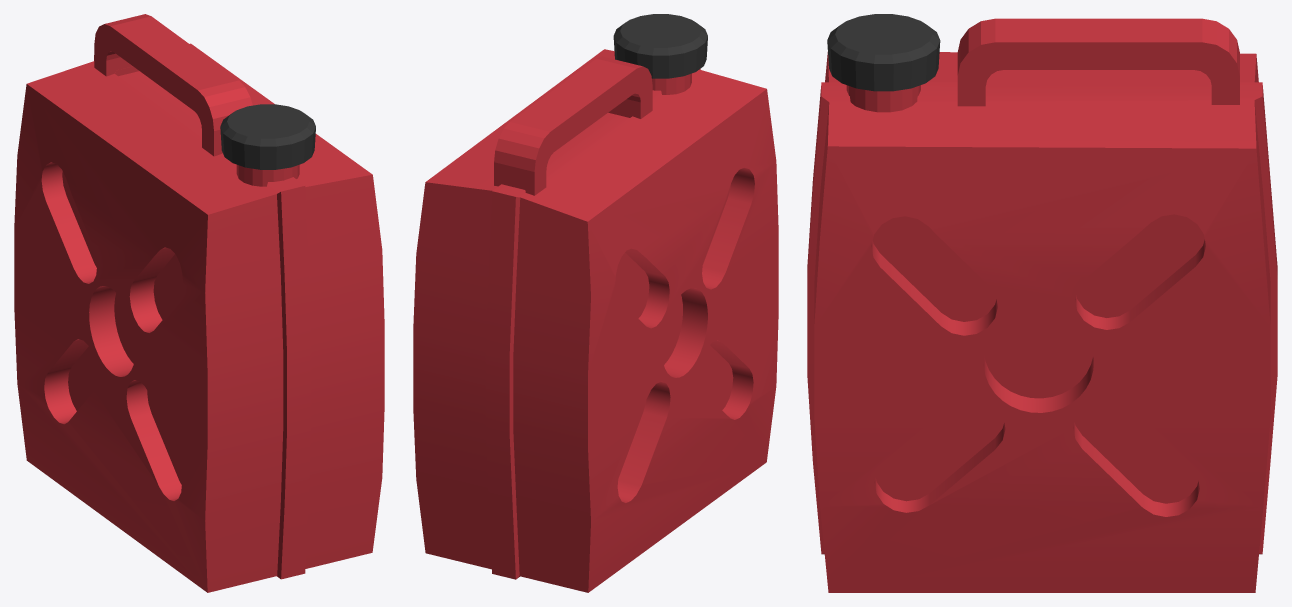
The model's file is jerry_can_B.fbx.
3 renders of one model, left to right at view 1: azimuth 30°, elevation 25°; view 2: azimuth 150°, elevation 25°; view 3: azimuth 270°, elevation 25°, orthographic. The views are drawn at different scales.
Visible parts, largest first — view 1: Cube.001, Cylinder.002; view 2: Cube.001, Cylinder.002; view 3: Cube.001, Cylinder.002.
Boxes of the visible parts, x1,y1,x2,y2 form: Cube.001: (14, 14, 384, 592); Cylinder.002: (220, 104, 315, 169); Cube.001: (413, 49, 778, 592); Cylinder.002: (613, 14, 707, 78); Cube.001: (807, 18, 1277, 592); Cylinder.002: (827, 14, 940, 91).
Bounding box in the file's own units: 94.38 × 223 × 184.
